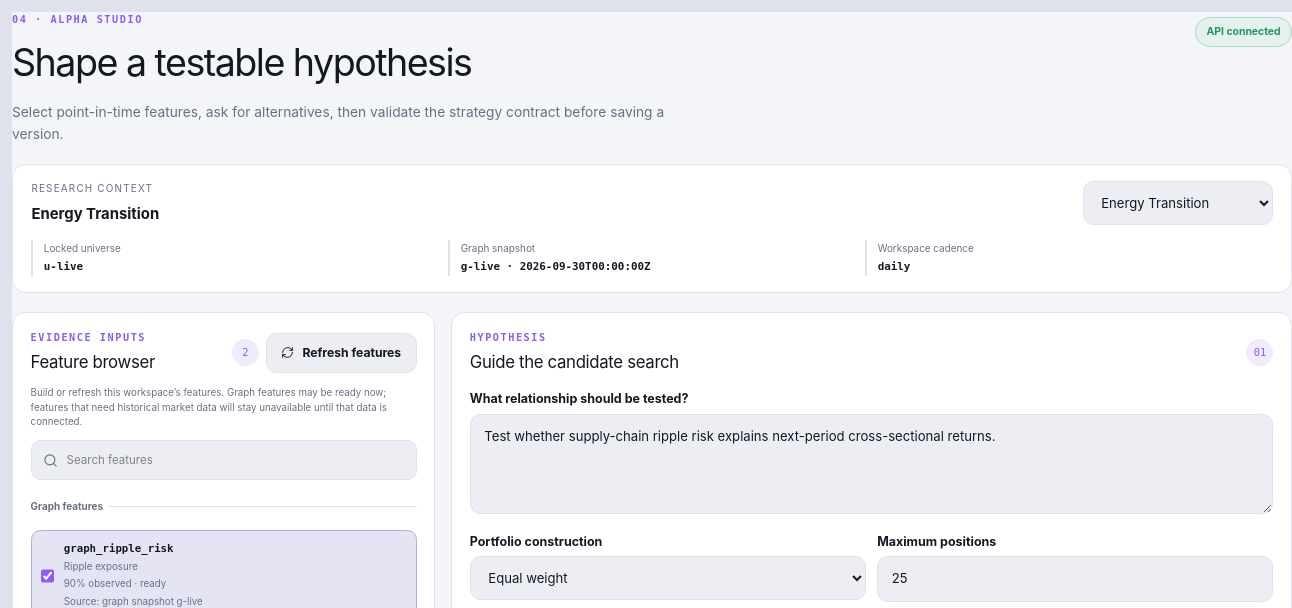
Scenario: shows a feature refresh error returned by the API
The width and height of the screenshot is (1292, 608).
Click the button "Refresh features".
click(341, 353)  # box [266, 333, 417, 373]
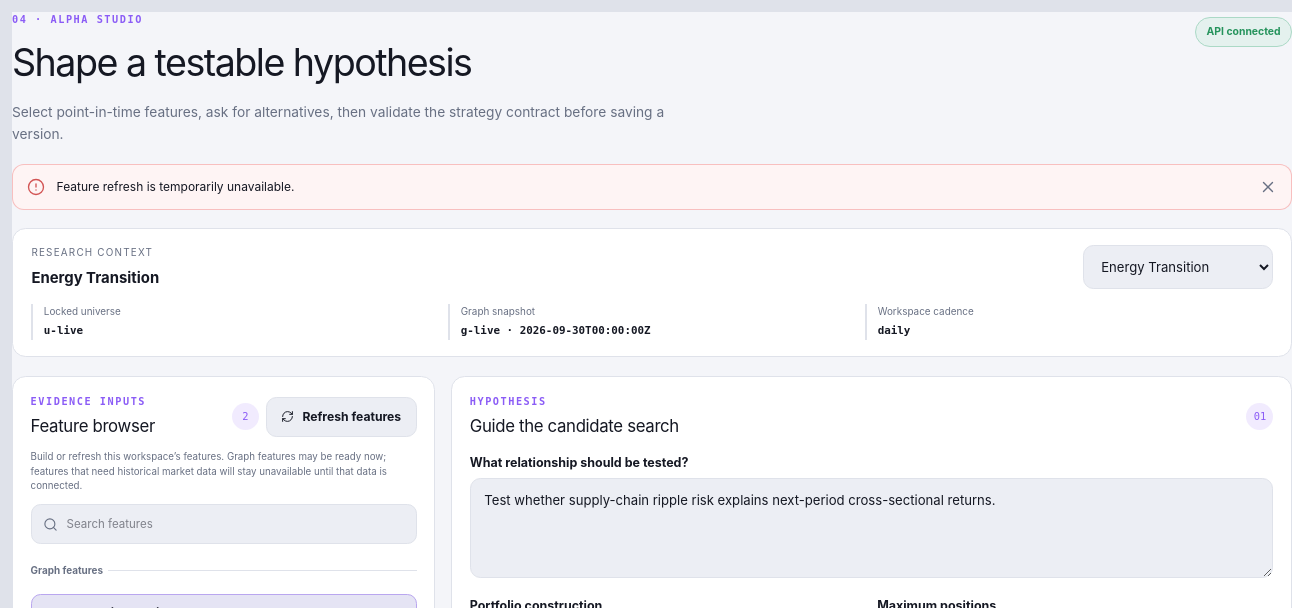
Result: the message reads "Feature refresh is temporarily unavailable." at [57, 179, 294, 194]
